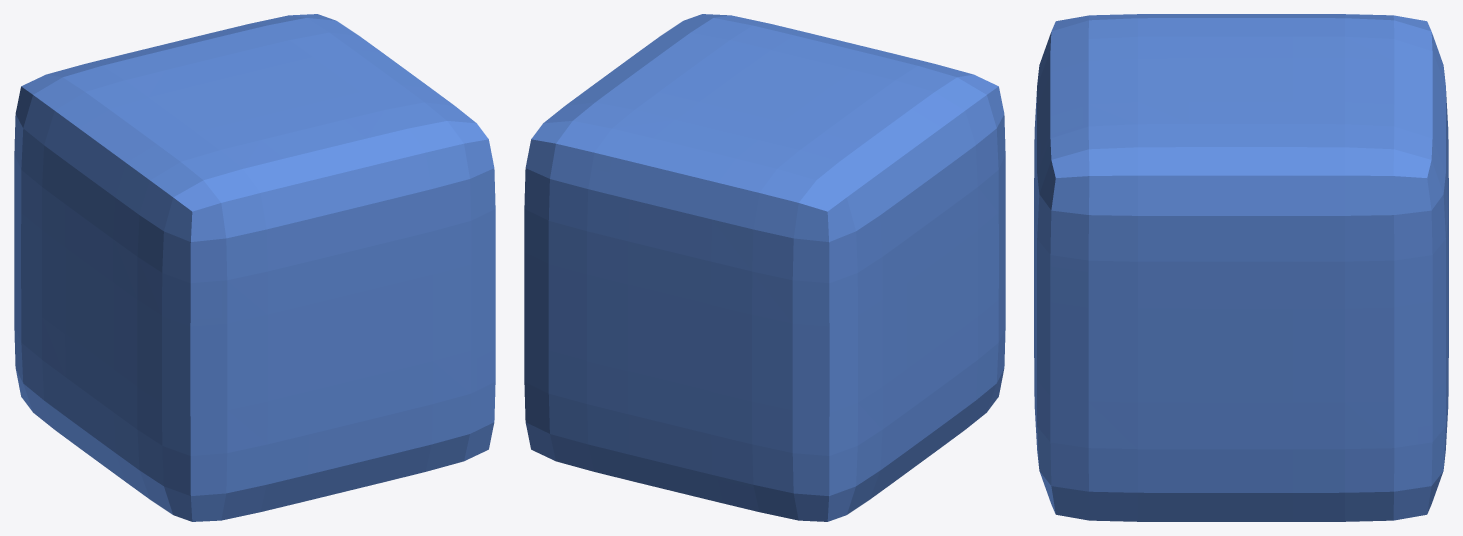
3 views of the same model, side by side, from view 1: azimuth 30°, elevation 25°; view 2: azimuth 150°, elevation 25°; view 3: azimuth 270°, elevation 25° (orthographic). The views are drawn at different scales.
Parts seen in each view (by area): view 1: Cube; view 2: Cube; view 3: Cube.
Boxes of the visible parts, bbox=[...] form: Cube: bbox=[14, 14, 495, 521]; Cube: bbox=[524, 14, 1005, 521]; Cube: bbox=[1034, 14, 1448, 521].
Size of the model in its own units: 2 by 2 by 2.
